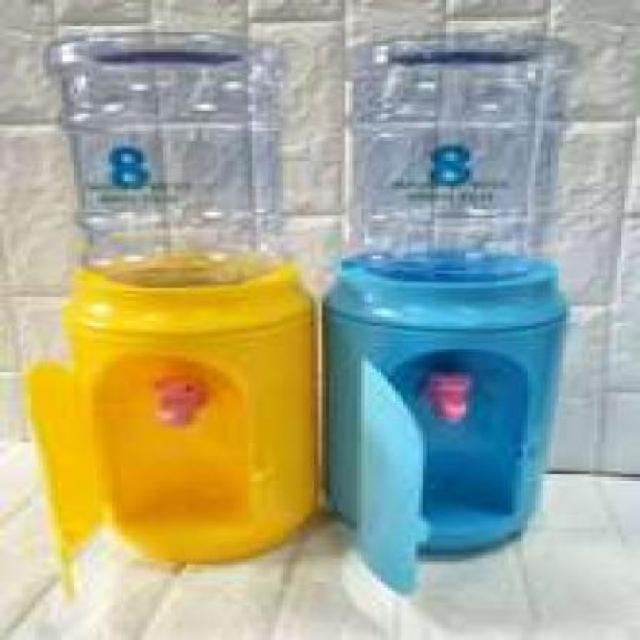coolerbottle: (332, 32, 592, 293), (40, 28, 294, 287)
